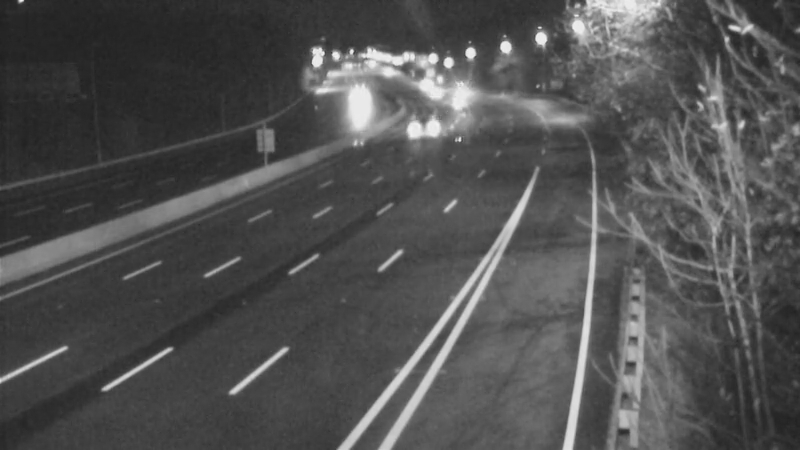vehicle: (398, 60, 448, 110), (411, 66, 461, 116), (436, 78, 486, 128), (398, 105, 448, 155), (331, 79, 381, 129)
